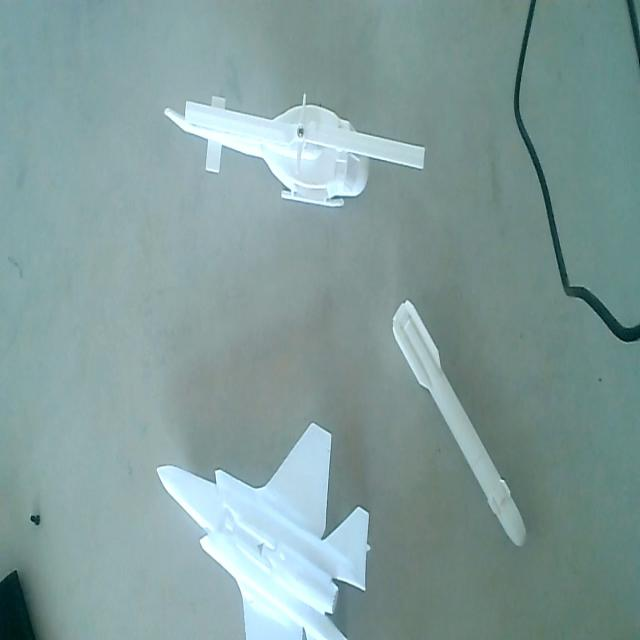Helicopter: (163, 83, 428, 218)
Jet: (152, 414, 373, 640)
Rocket: (390, 293, 529, 556)
